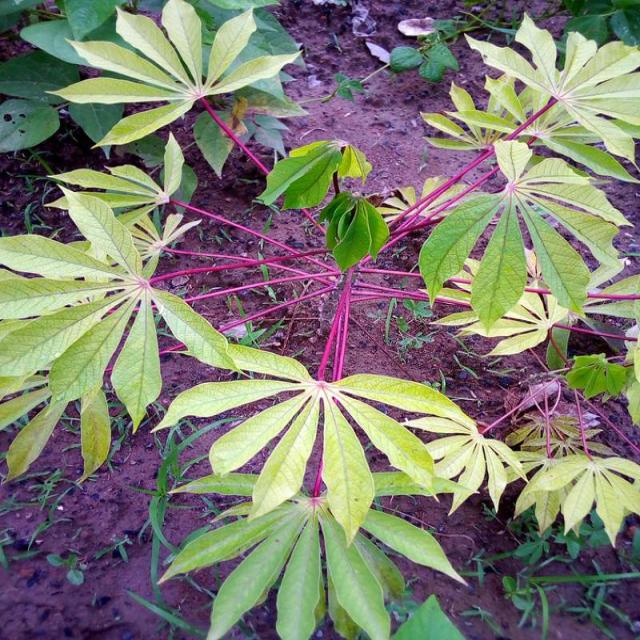cassava leaf: (0, 3, 638, 637), (45, 0, 305, 174), (417, 136, 631, 334)
